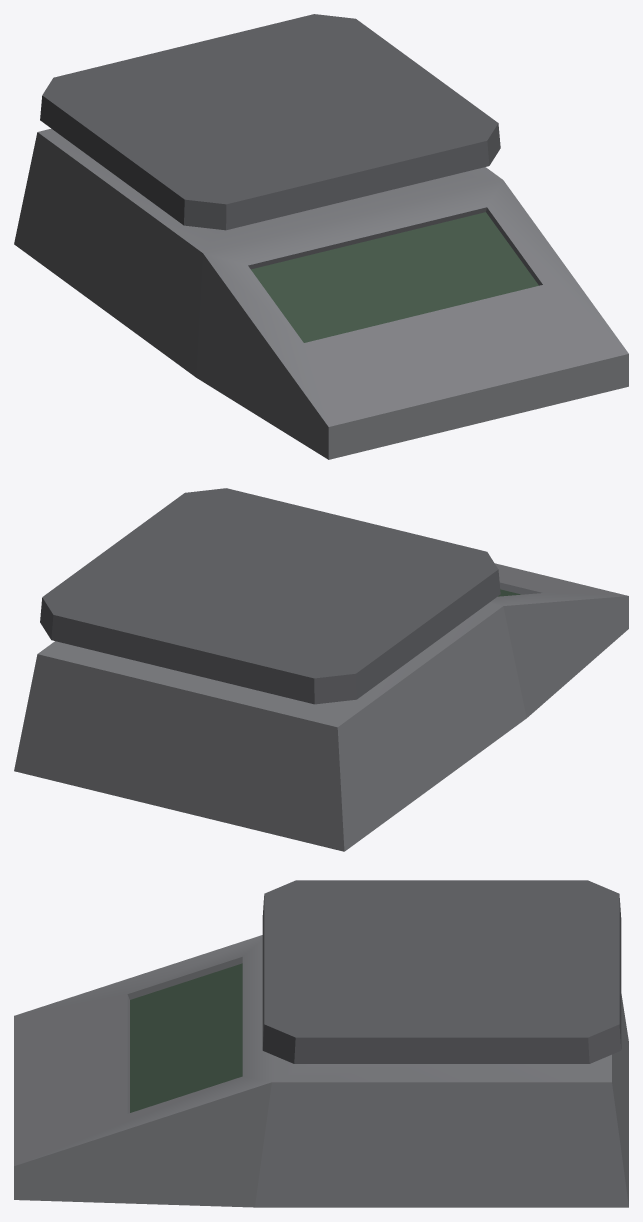
Rendered from scale.fbx.
3 views of the same model, one above another, from view 1: azimuth 30°, elevation 25°; view 2: azimuth 150°, elevation 25°; view 3: azimuth 270°, elevation 25° (orthographic). The views are drawn at different scales.
Visible parts, largest first — view 1: scale; view 2: scale; view 3: scale.
Part boxes in pixels (x1,y1,x2,y2): scale: [14, 14, 628, 459]; scale: [14, 488, 628, 851]; scale: [14, 880, 628, 1207].
Size of the model in its own units: 21.24 by 9.92 by 33.36.
